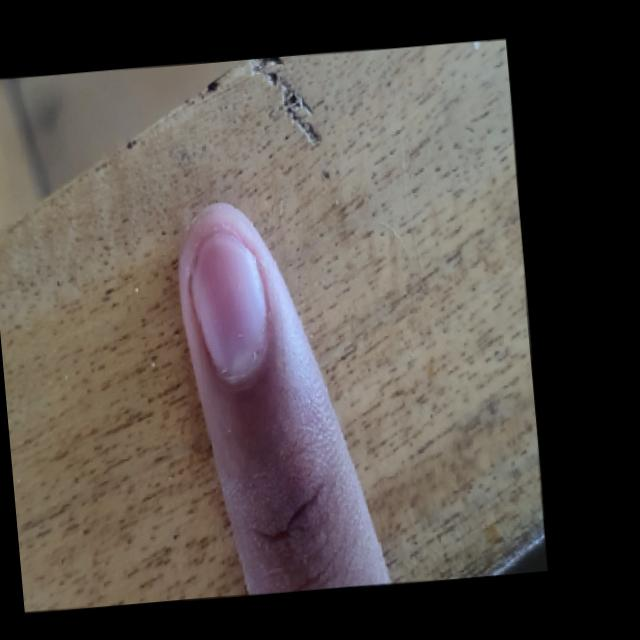Nail: (189, 235, 265, 378)
